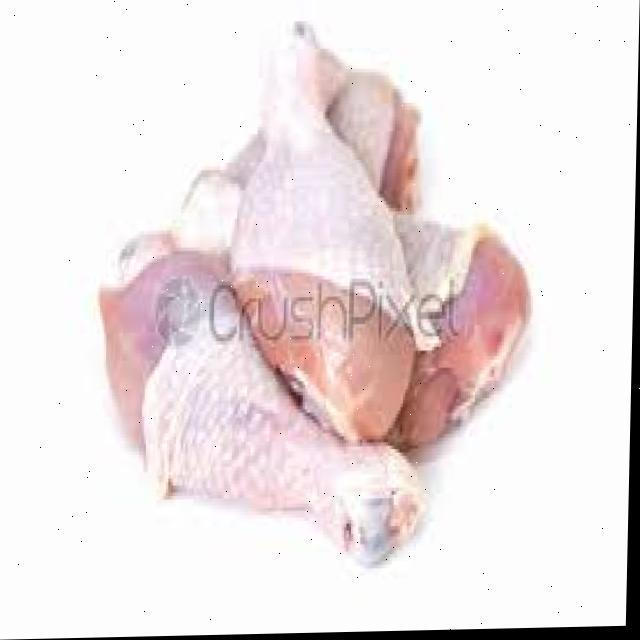leg: (96, 251, 427, 570), (180, 158, 532, 450), (232, 24, 424, 432)
